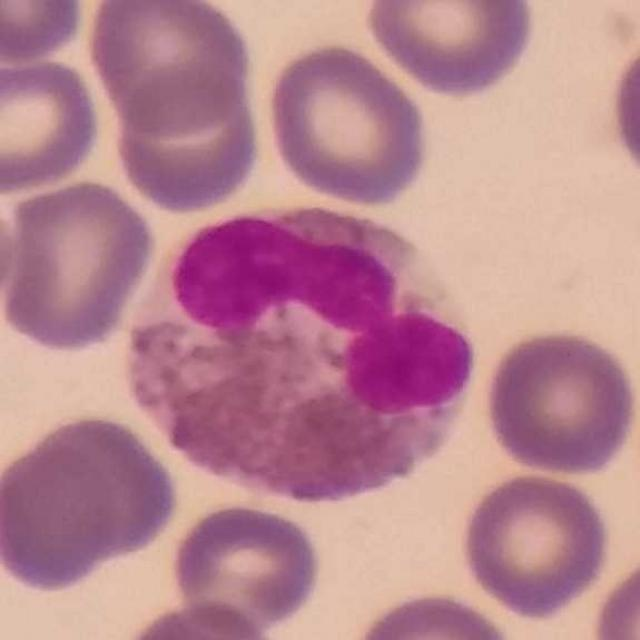eosino: (125, 199, 475, 499)
